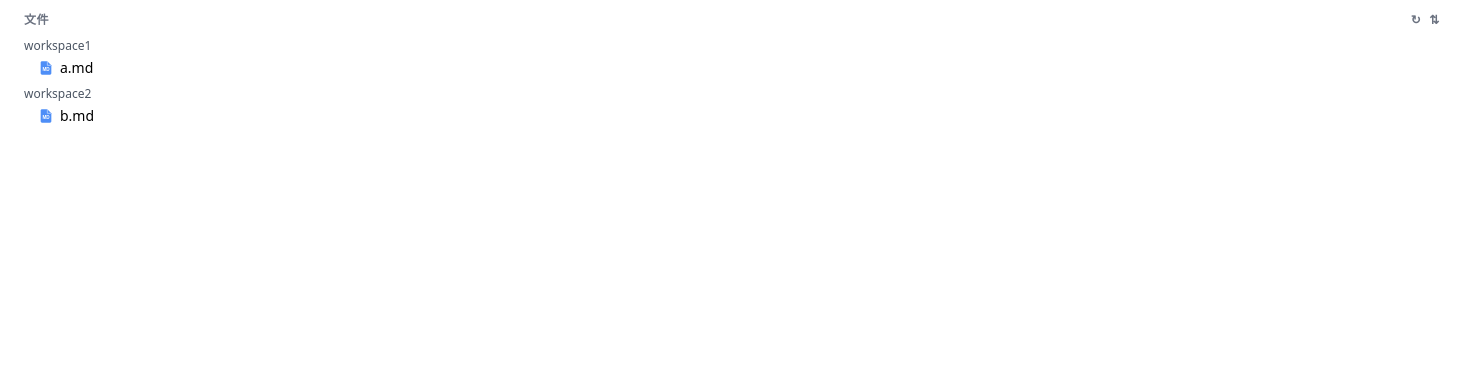
Test: FileTree › 多根目录 › 右键根目录应显示「从工作区移除」
Right-click the text "workspace1": (58,46) left=24, top=38, right=91, bottom=54
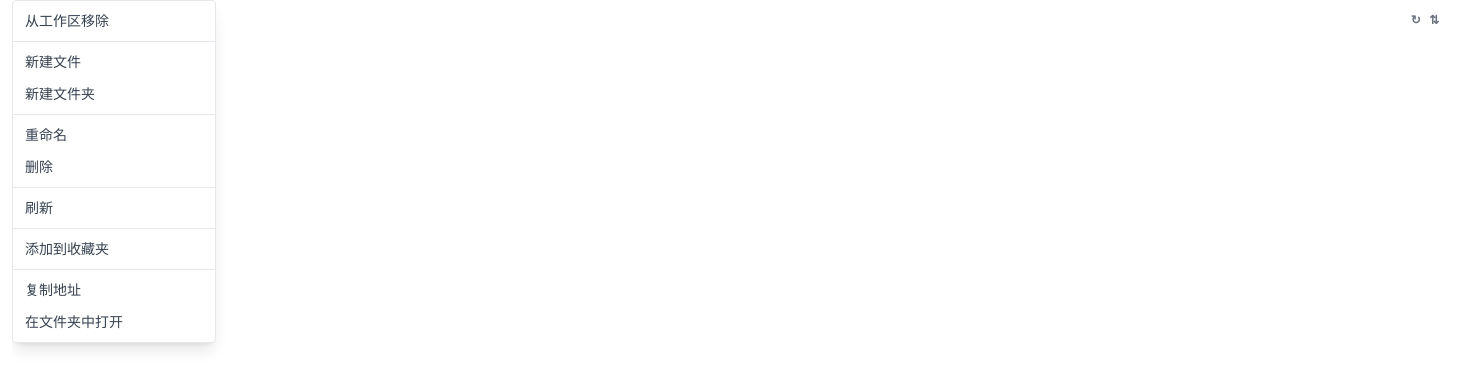
Check: the menu item "从工作区移除" is shown, box left=13, top=5, right=215, bottom=37
